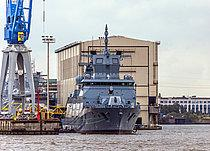MIL_Ship: (61, 33, 143, 134)
